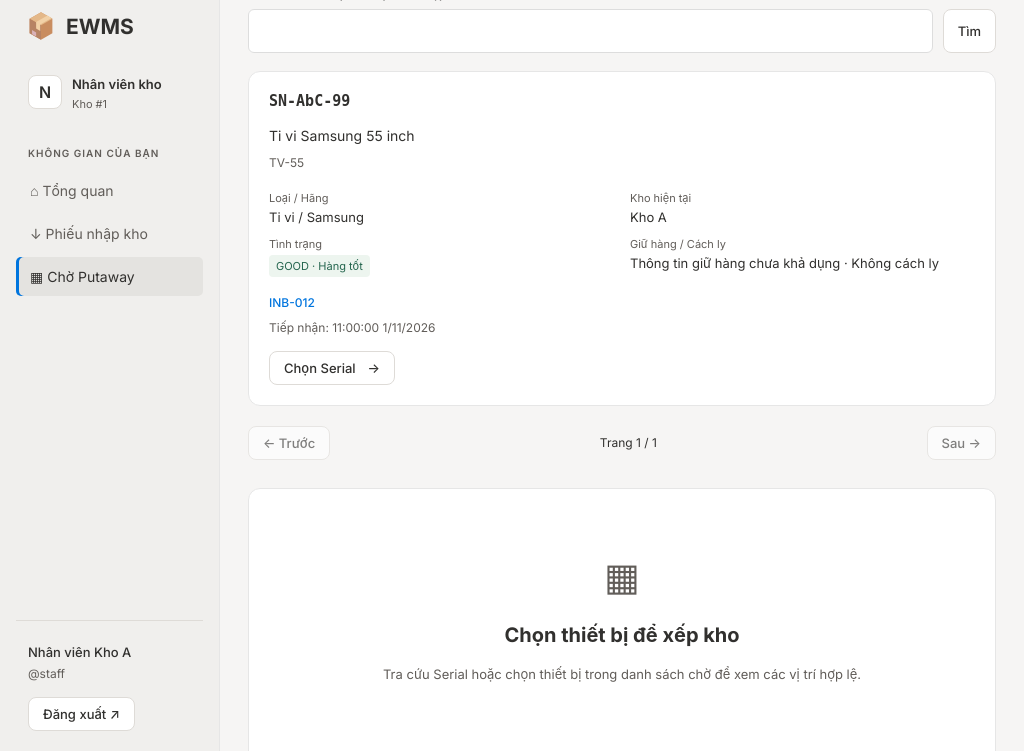
allows manual RESERVE selection and writes once after reviewing the location without requiring a second serial scan
The image size is (1024, 751).
(page scrolled)
Click the button named "Chọn Serial SN-AbC-99".
click(332, 368)  # box [269,351,395,385]
(page scrolled)
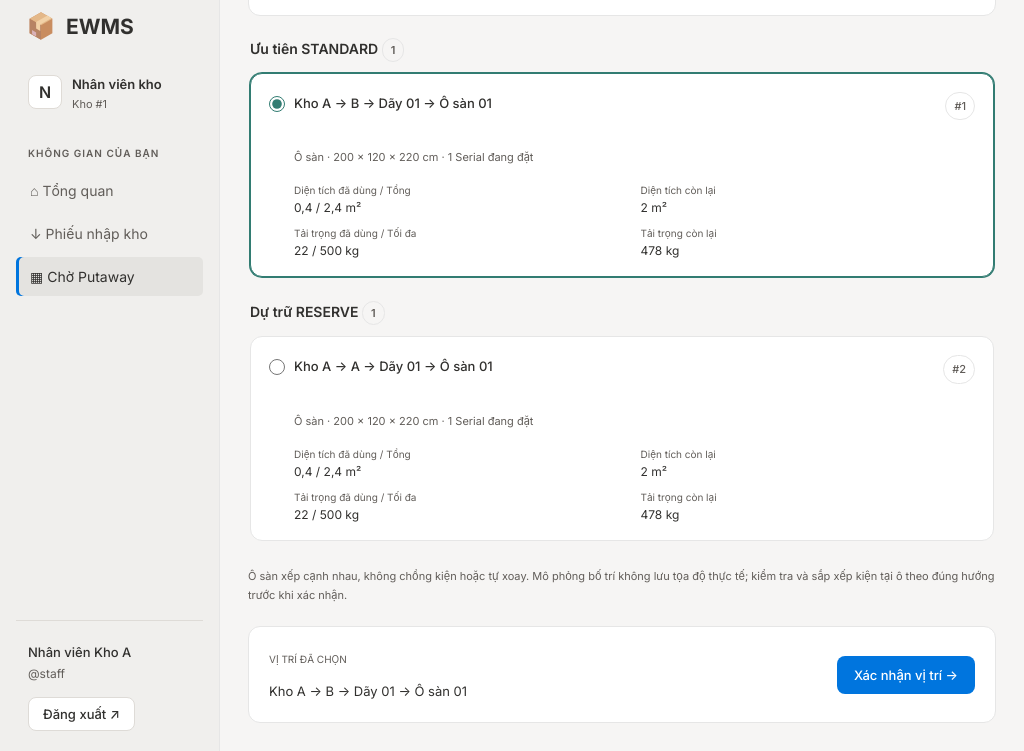
Check: the radio button labelled "Kho A → B" is checked, box [269,96,285,112]
Click the radio button labelled "Kho A → A".
click(277, 367)  # box [269,359,285,375]
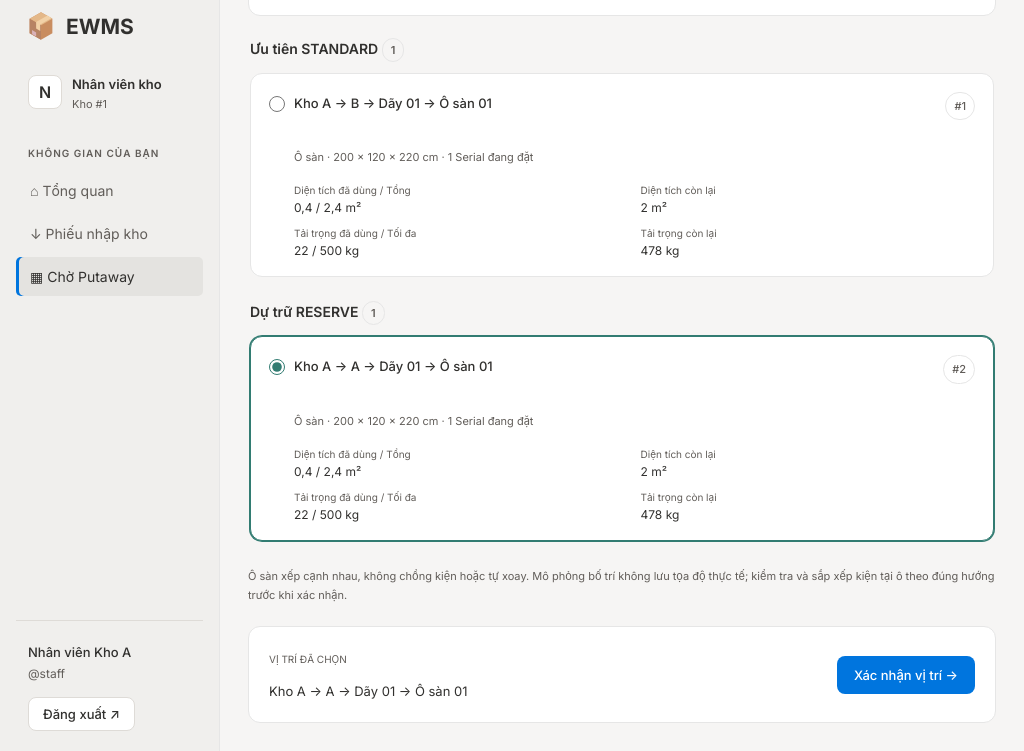
Click the button "Xác nhận vị trí →".
click(906, 675)  # box [837,656,975,694]
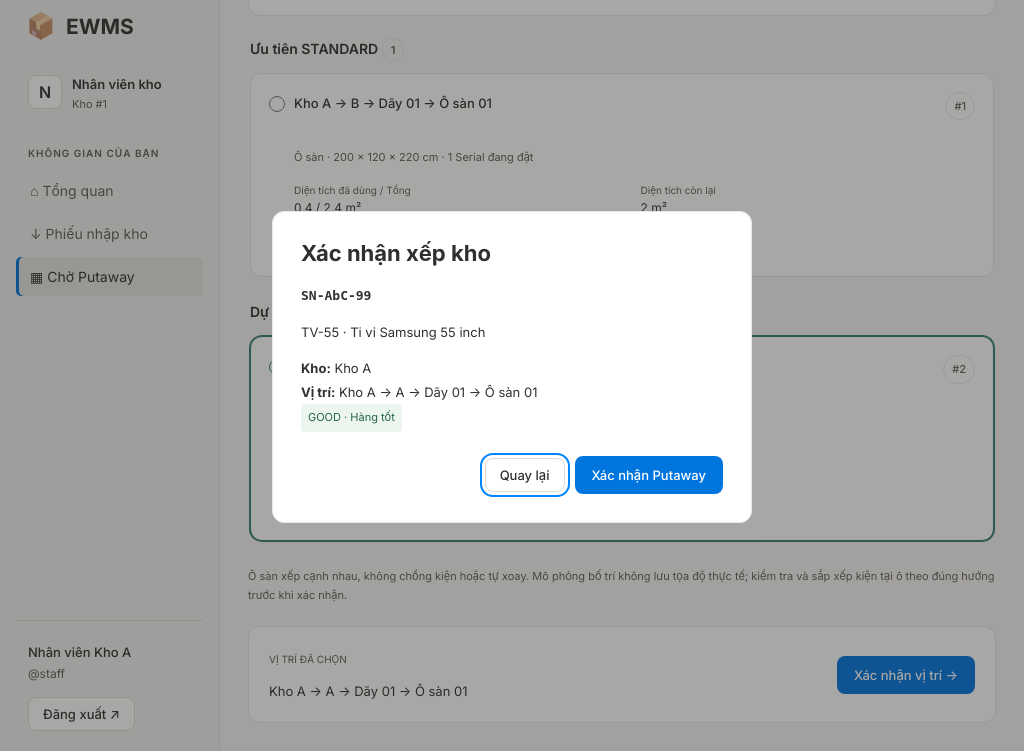
Click the button "Xác nhận Putaway".
click(649, 475)  # box [574,456,723,494]
(page scrolled)
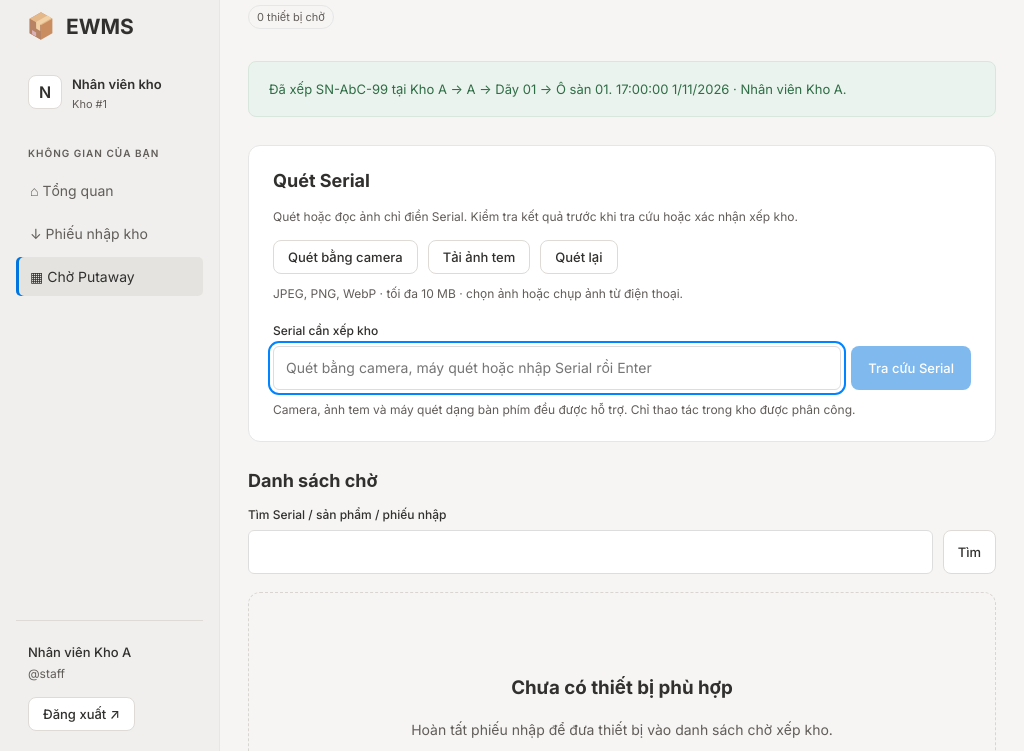
Check: the button "Chọn Serial SN-AbC-99" is not shown
Check: the text "Đã xếp SN-AbC-99 tại Kho A → A" is shown, box [269,81,847,97]
Check: the text "0 thiết bị chờ" is shown, box [248,5,334,29]
